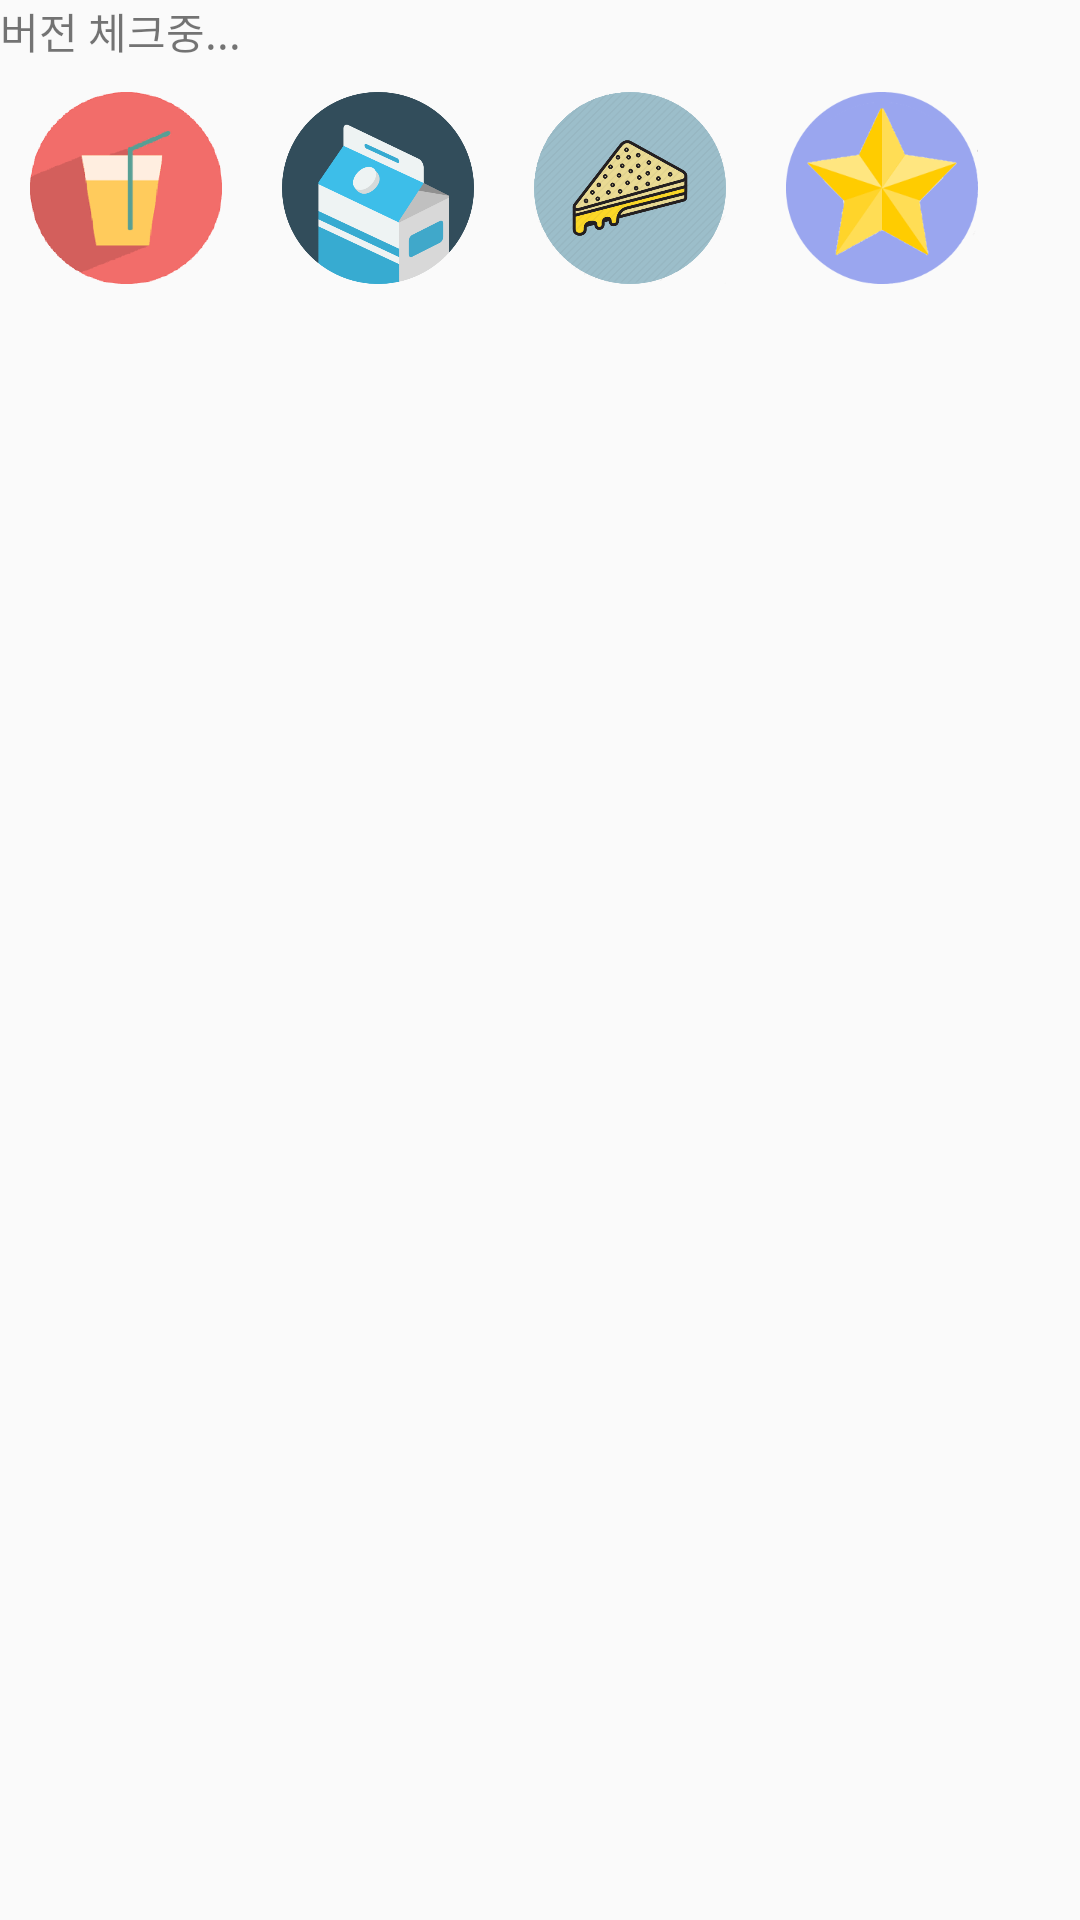

Where to tap for icons on this 1080w x 1920h app screen, as (x,y):
drink: (126,188)
milk: (378,188)
sand: (630,188)
star: (882,188)
